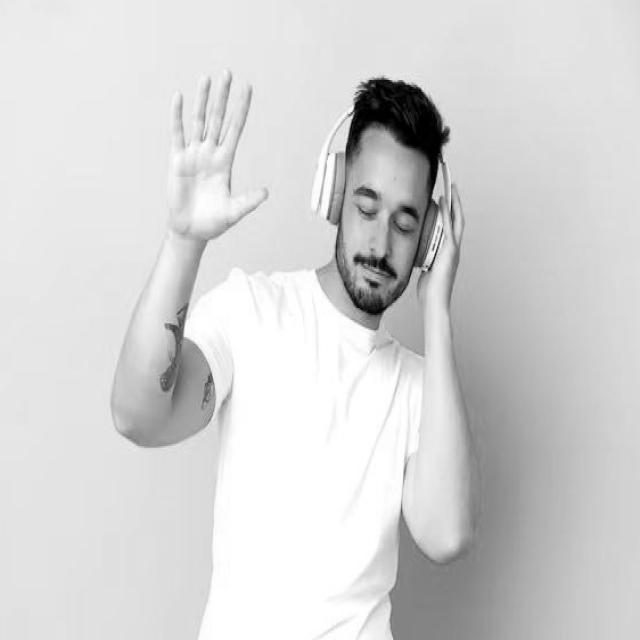stop: (162, 60, 272, 256)
